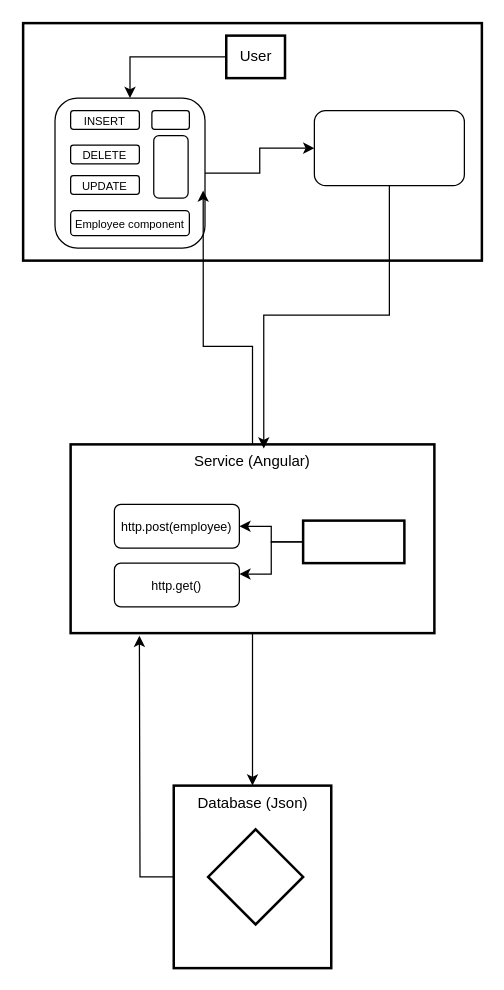
The diagram is 504 pixels wide and 990 high, and some of its shapes have lost their labels. Each missing label, with the centre of its shape:
"db.json" belongs at (x=255, y=876).
"FIND" belongs at (x=170, y=119).
"FIND ALL" belongs at (x=170, y=166).
"HTTPClient" belongs at (x=353, y=541).
"service" belongs at (x=388, y=147).
